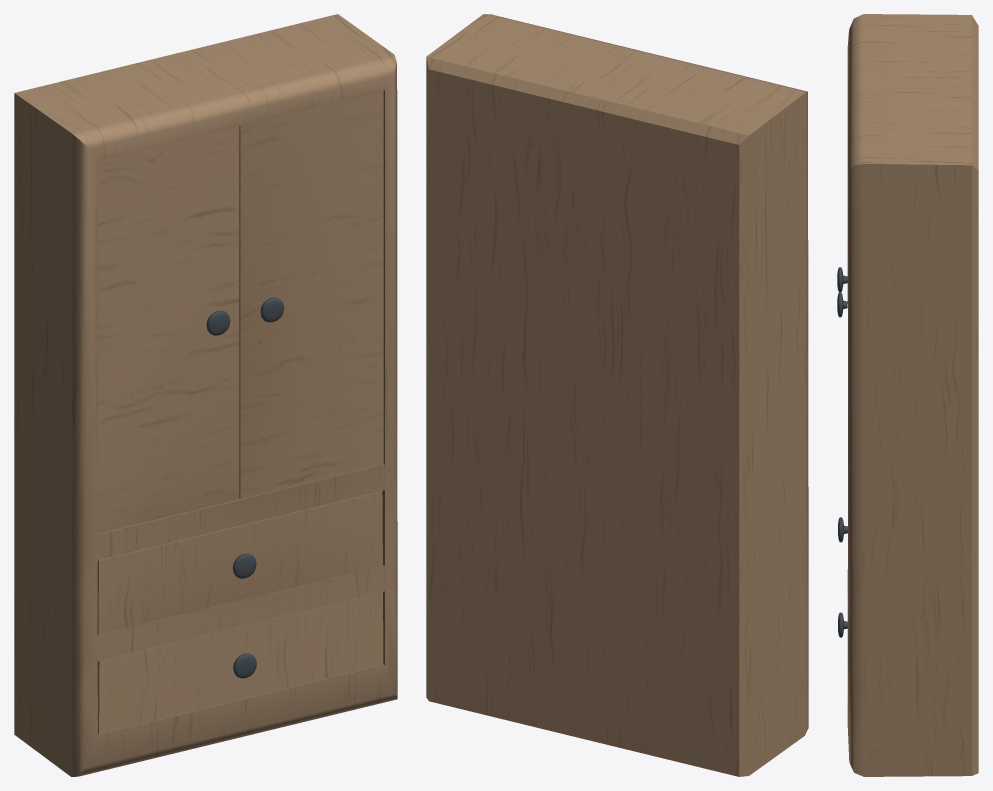
File: Kledingkast 1.fbx
The picture shows the model from 3 angles, left to right: view 1: azimuth 30°, elevation 25°; view 2: azimuth 150°, elevation 25°; view 3: azimuth 270°, elevation 25°; orthographic projection. The views are drawn at different scales.
Visible parts, largest first — view 1: KledingKast_Base, DoorL_KK, DoorR_KK, Drawer1_KK, Drawer2_KK; view 2: KledingKast_Base; view 3: KledingKast_Base.
Boxes of the visible parts, x1,y1,x2,y2 form: KledingKast_Base: (14,14,397,776); DoorL_KK: (239,90,383,498); DoorR_KK: (97,126,239,533); Drawer1_KK: (97,491,382,635); Drawer2_KK: (97,592,383,734); KledingKast_Base: (426,14,808,776); KledingKast_Base: (847,14,978,776).
Bounding box in the file's own units: 120 × 228 × 47.74.
2 materials, 1 textured.
